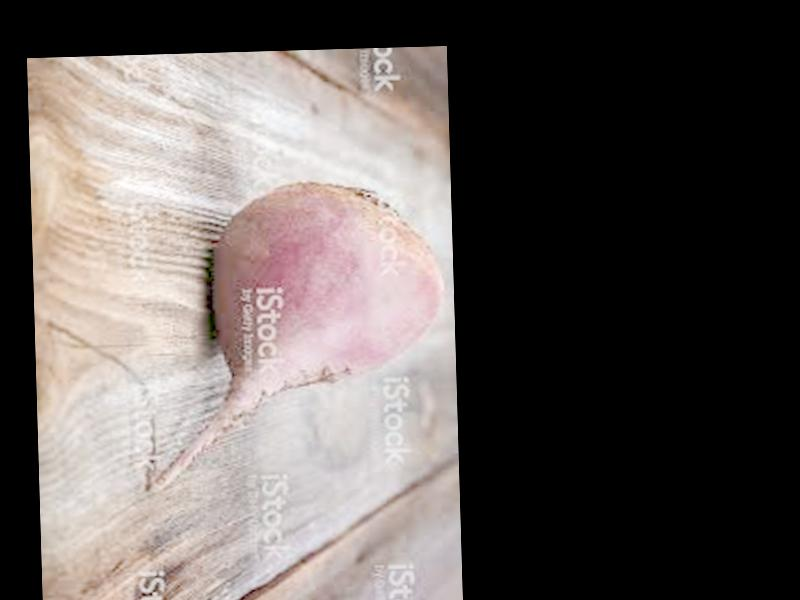Beet: (140, 178, 450, 495)
